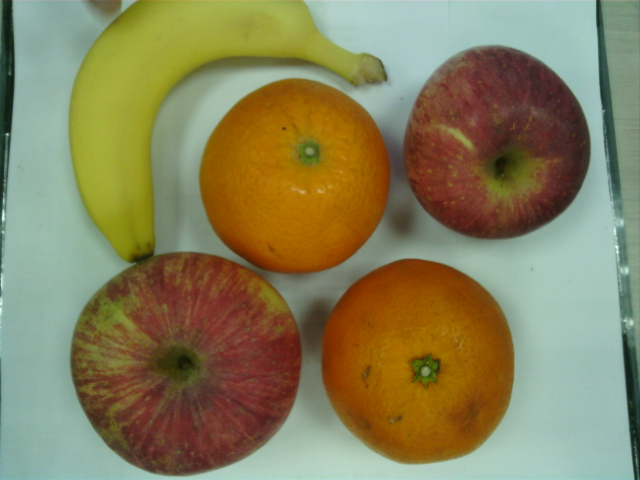normal_apple: (72, 251, 304, 476), (402, 45, 591, 239)
normal_banana: (69, 1, 387, 259)
normal_orange: (322, 259, 515, 463), (198, 79, 391, 274)
